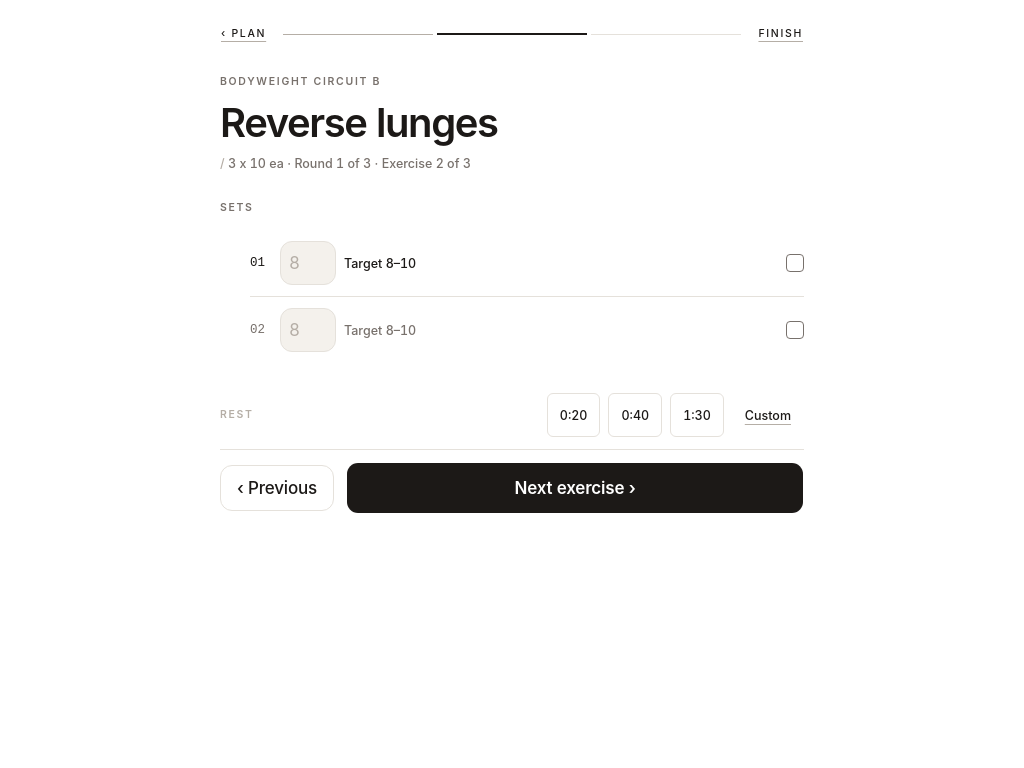
it: Skip session, once a set is logged › Keep going closes it and leaves the session where it was
Step 1. Click the button with aria-label "Finish session" → (781, 34), box x1=758 y1=12 x2=804 y2=56
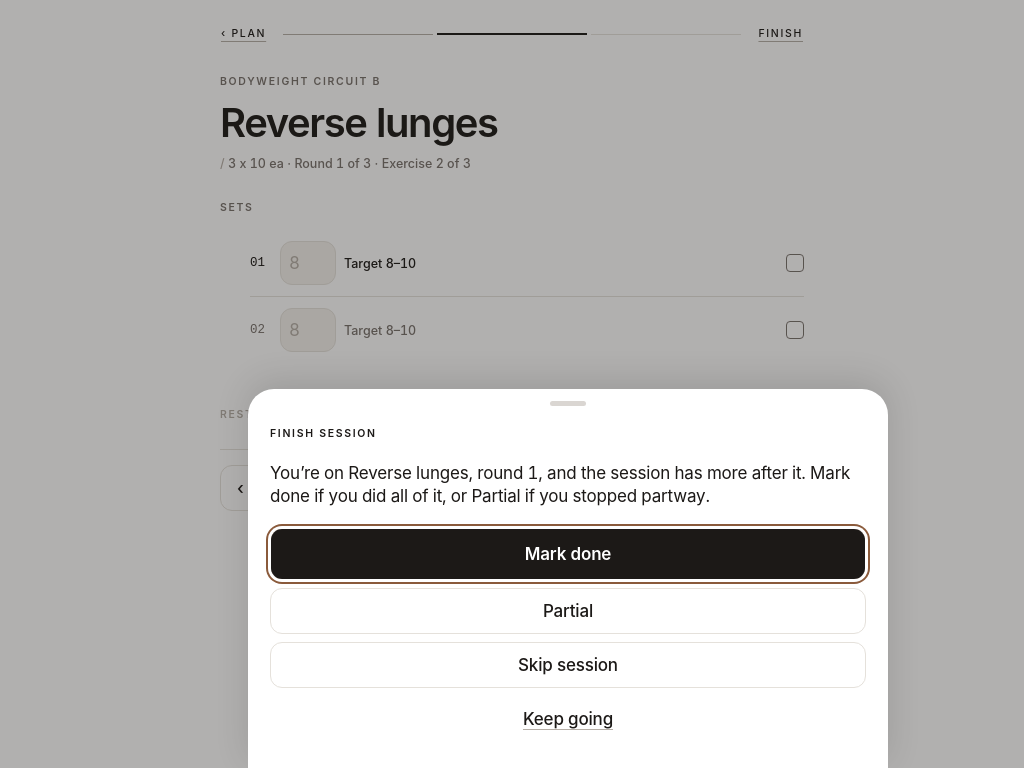
Step 2. Click the button "Skip session" → (568, 665), box x1=270 y1=642 x2=866 y2=688
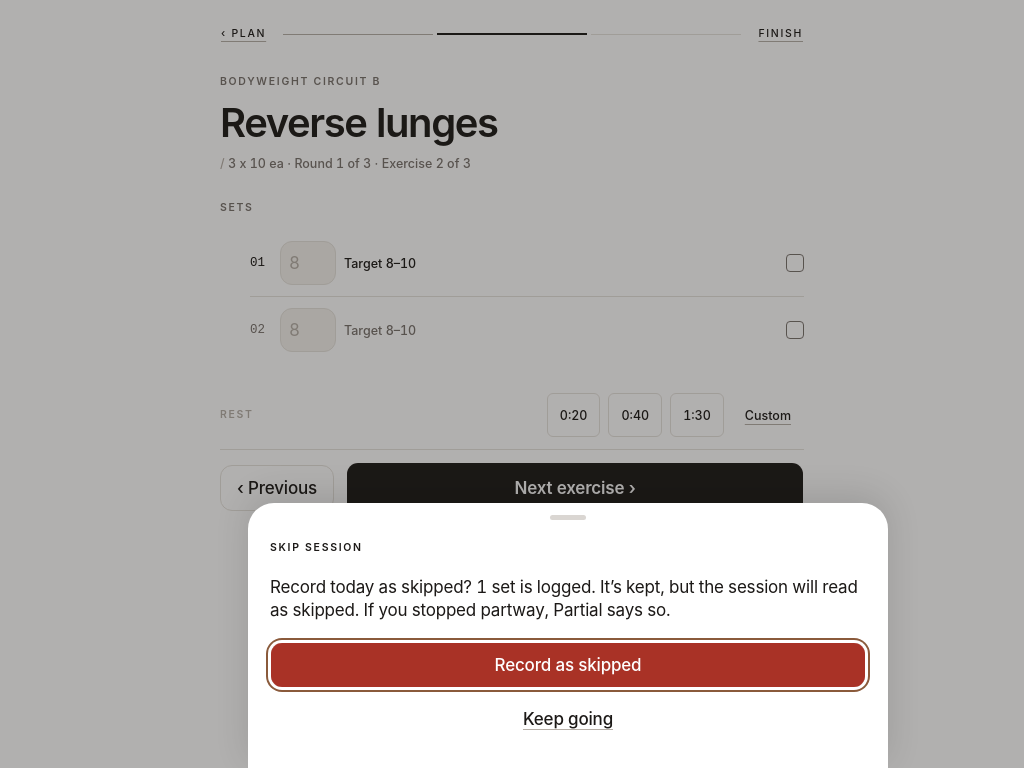
Step 3. Click the button "Keep going" → (568, 719), box x1=270 y1=696 x2=866 y2=742
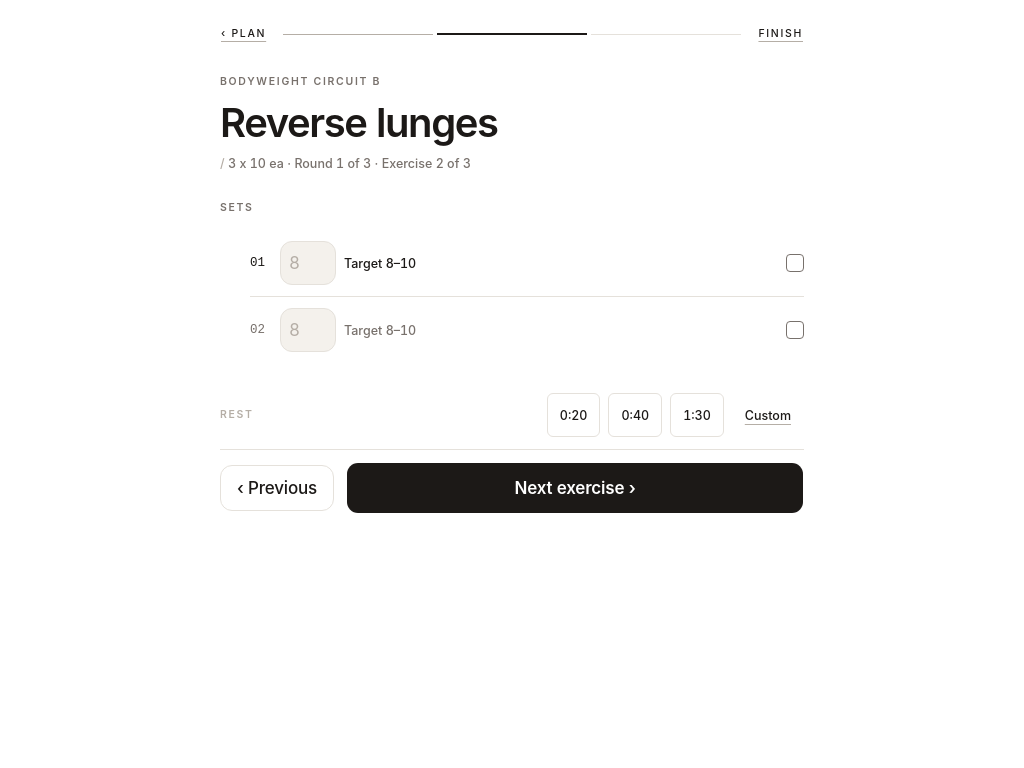
Expected: the heading "Reverse lunges" is shown, x1=220 y1=98 x2=498 y2=147
Result: the dialog is gone
